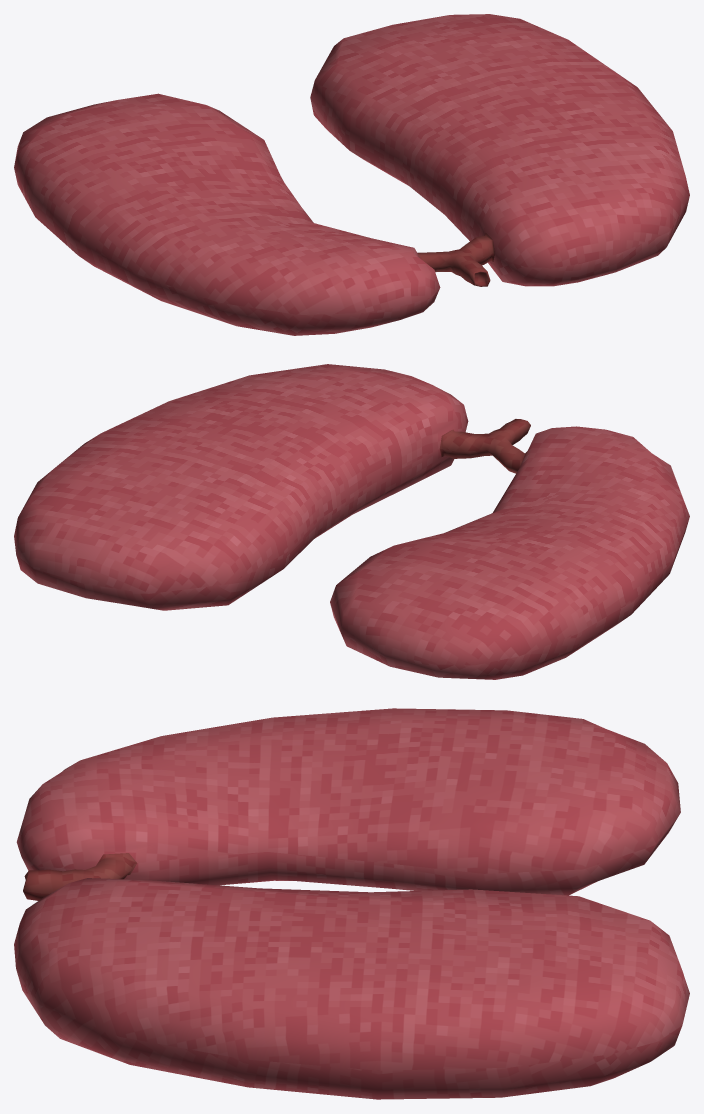
Rendered from Pulmones.fbx.
3 views of the same model, one above another, from view 1: azimuth 30°, elevation 25°; view 2: azimuth 150°, elevation 25°; view 3: azimuth 270°, elevation 25° (orthographic). The views are drawn at different scales.
Visible parts, largest first — view 1: Pulmones; view 2: Pulmones; view 3: Pulmones.
Part boxes in pixels (bbox=[...]): Pulmones: bbox=[14, 14, 689, 335]; Pulmones: bbox=[14, 364, 689, 679]; Pulmones: bbox=[14, 708, 689, 1099].
Bounding box in the file's own units: 237 × 39.91 × 200.
1 material, 1 textured.
